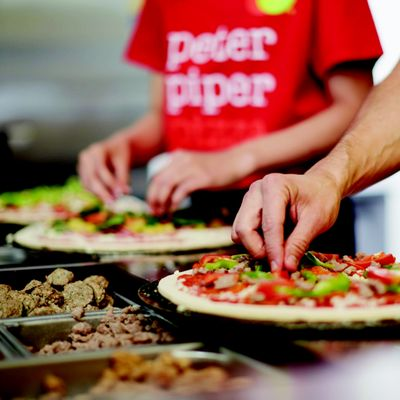sandwich: (159, 249, 399, 329), (59, 350, 389, 400), (6, 186, 238, 253)
